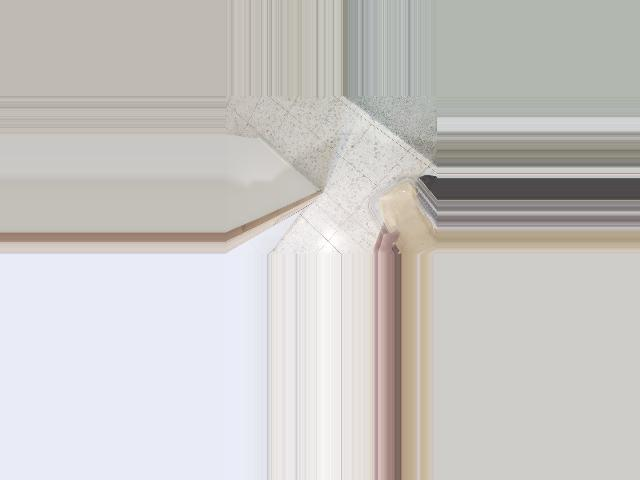cheese: (368, 177, 438, 255)
